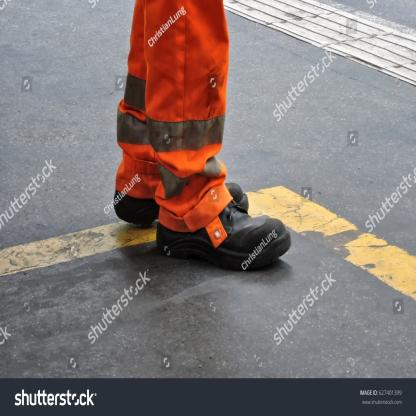bota: (154, 195, 294, 266)
